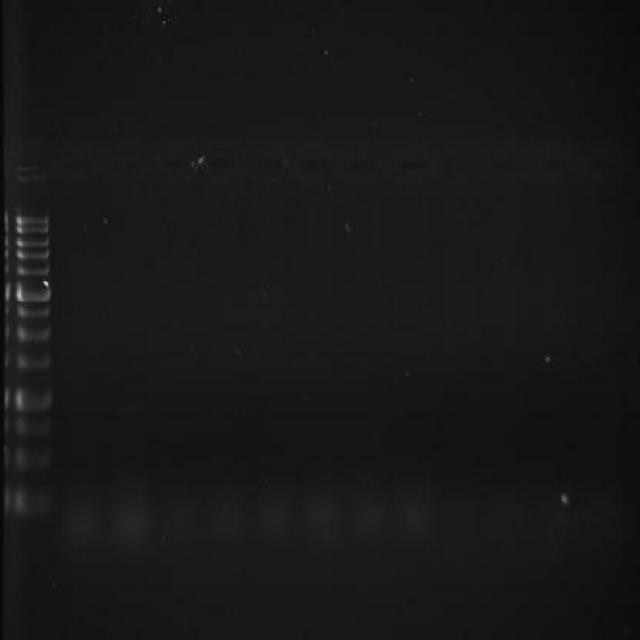L: (9, 140, 636, 196)
M: (9, 204, 58, 536)
P: (13, 484, 53, 521), (14, 383, 54, 414), (13, 444, 53, 472), (14, 278, 54, 304), (14, 414, 52, 440), (15, 349, 54, 374), (15, 323, 52, 345), (15, 303, 52, 322), (15, 262, 50, 278), (14, 211, 51, 226), (14, 248, 52, 261), (14, 235, 52, 248), (14, 224, 51, 236)
Pc: (434, 144, 482, 190), (99, 146, 144, 186), (196, 146, 242, 185), (246, 146, 288, 188), (292, 145, 336, 184), (152, 147, 192, 186), (14, 146, 51, 188), (56, 147, 95, 186), (390, 148, 430, 186), (582, 150, 627, 183), (536, 148, 572, 185), (344, 150, 382, 182), (487, 150, 524, 182)
